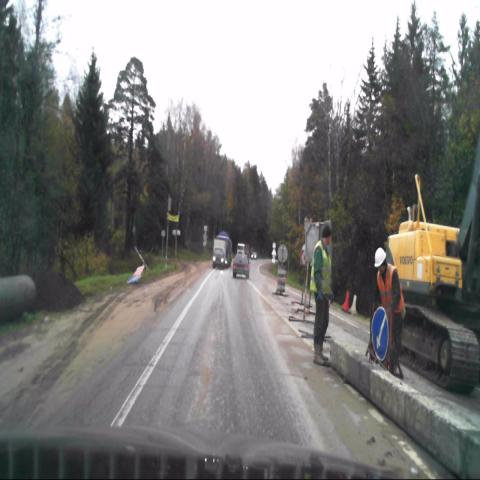4_2_2: (371, 305, 389, 362)
